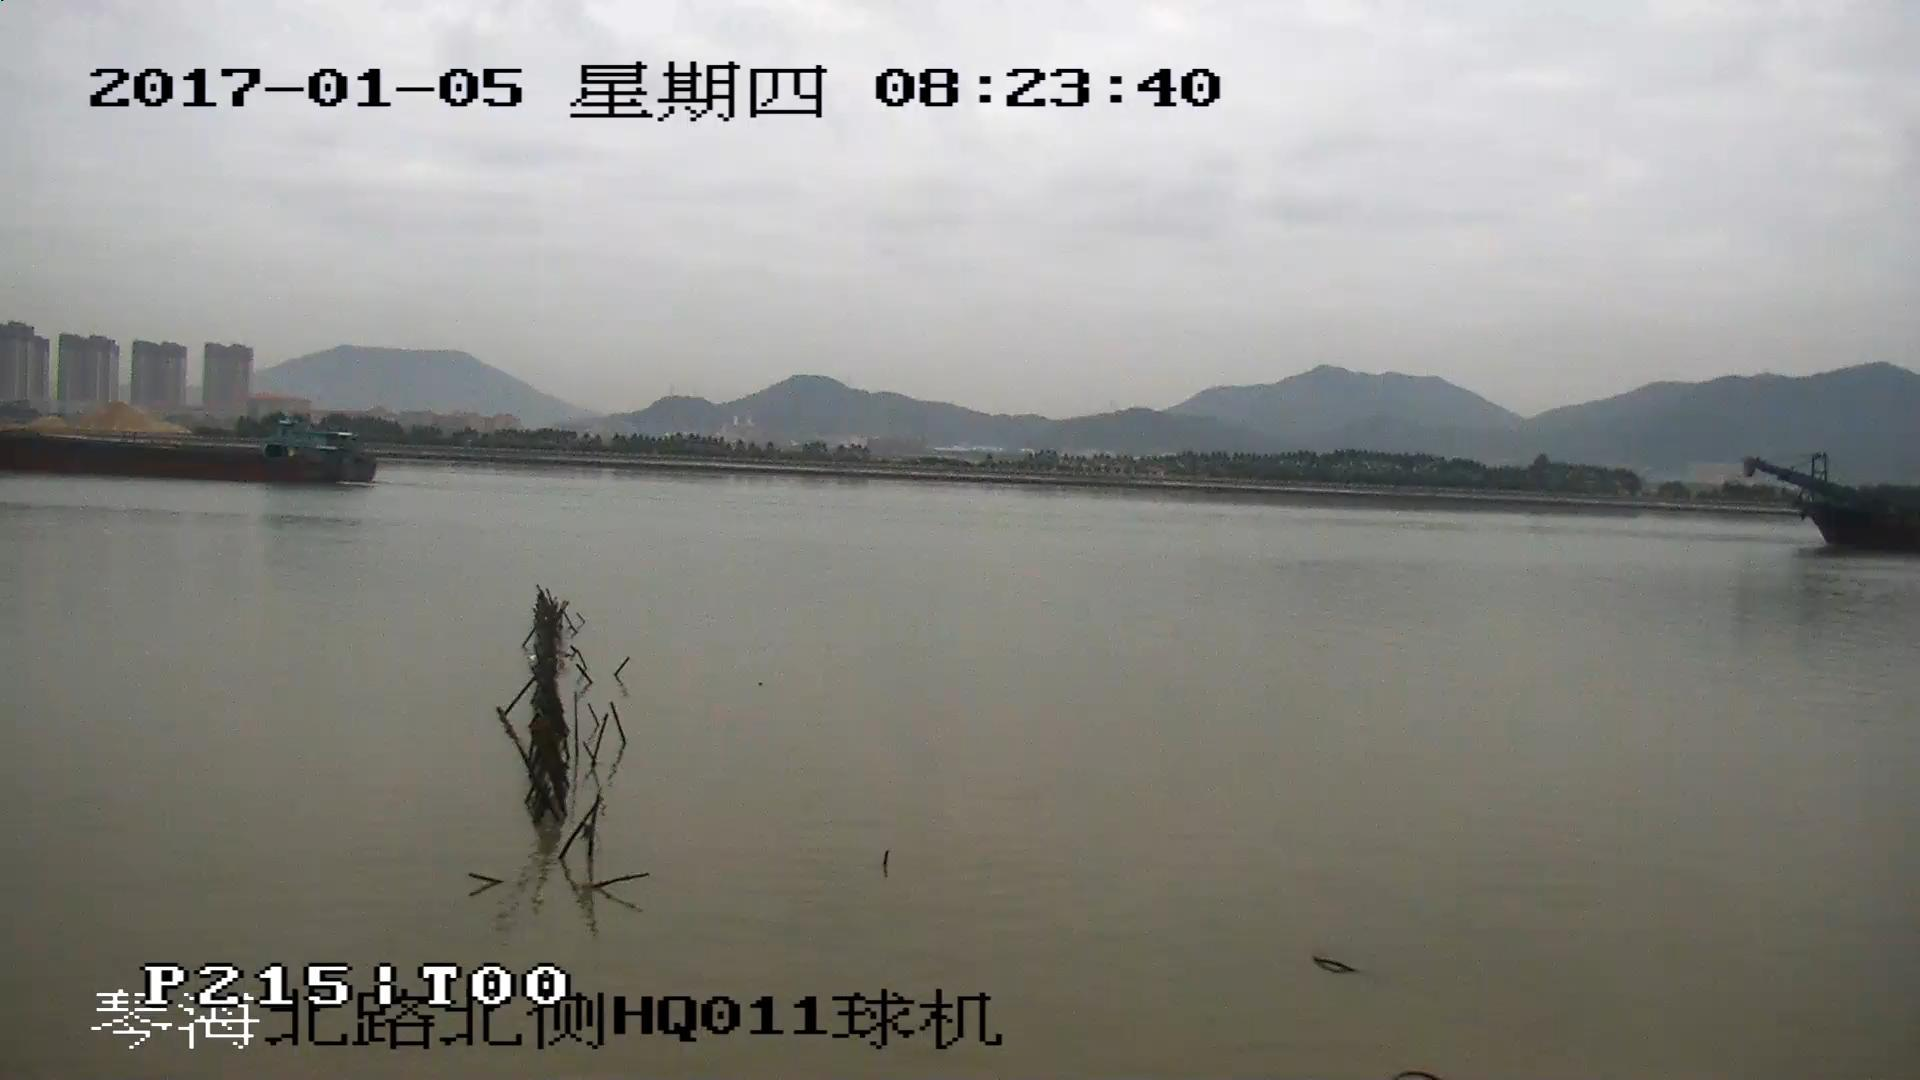Ship: (3, 422, 378, 483), (1746, 458, 1920, 549)
